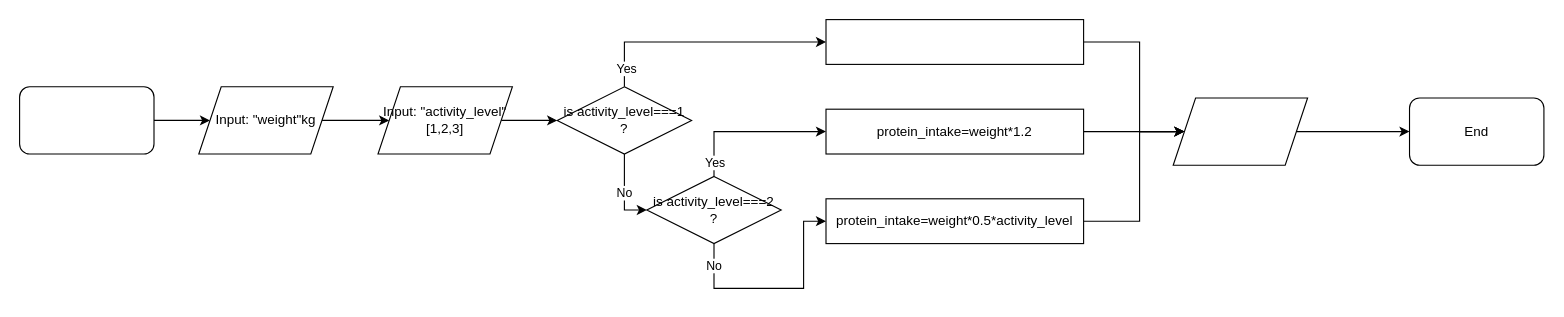
The diagram is 1564 pixels wide and 317 high, and some of its shapes have lost their labels. The shapes that lost their labels are listed below. From the top down, each one's centre as x and y in pixels, then its label:
At (954,41): "protein_intake=weight*0.8".
At (86,120): "start".
At (1240,131): "Output: protein_intake".
